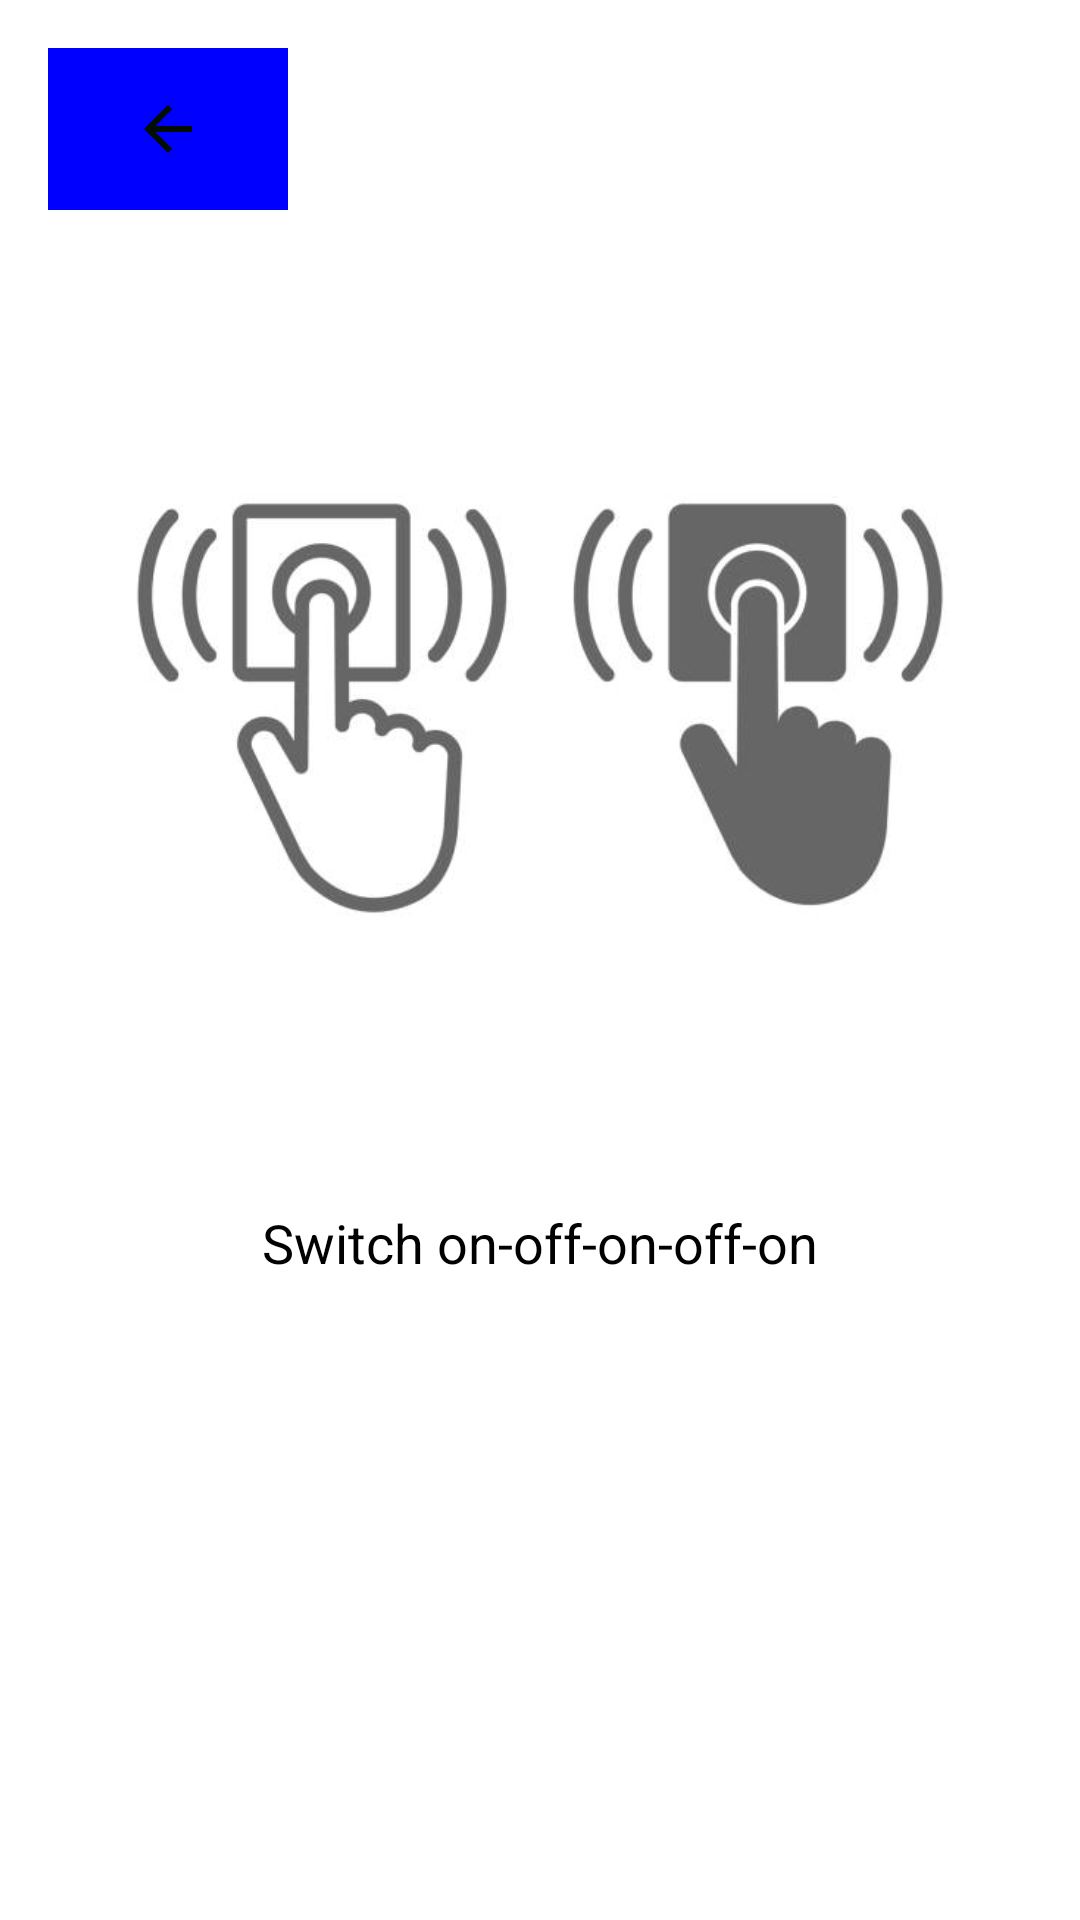

Named icons in this screenshot (1080px×1920px) and their centers, [x,y]:
arrow back: [168,129]
